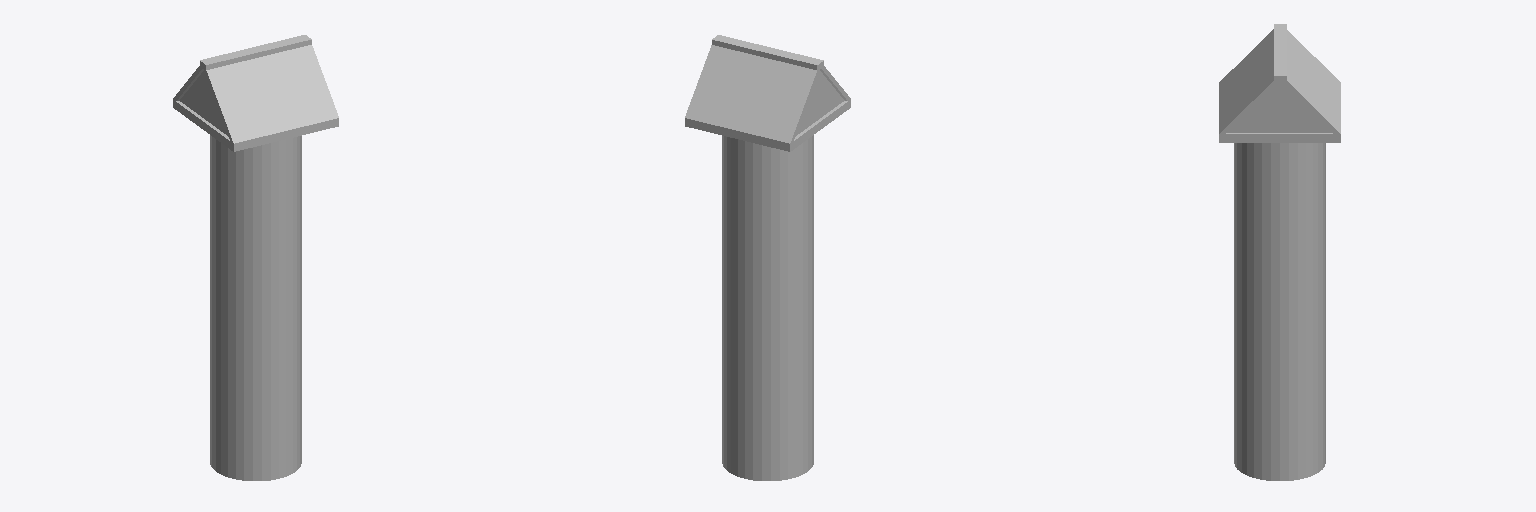
Rendered from tower.obj.
3 renders of one model, left to right at view 1: azimuth 30°, elevation 25°; view 2: azimuth 150°, elevation 25°; view 3: azimuth 270°, elevation 25°, orthographic.
Parts seen in each view (by area): view 1: Cylinder, Cube_Cube.001; view 2: Cylinder, Cube_Cube.001; view 3: Cylinder, Cube_Cube.001.
Boxes of the visible parts, x1=… form: Cylinder: x1=210, y1=135, x2=301, y2=480; Cube_Cube.001: x1=173, y1=35, x2=338, y2=151; Cylinder: x1=722, y1=135, x2=813, y2=480; Cube_Cube.001: x1=685, y1=35, x2=850, y2=151; Cylinder: x1=1234, y1=143, x2=1325, y2=480; Cube_Cube.001: x1=1219, y1=24, x2=1340, y2=142.
Bounding box in the file's own units: 26.52 × 98.81 × 26.52.